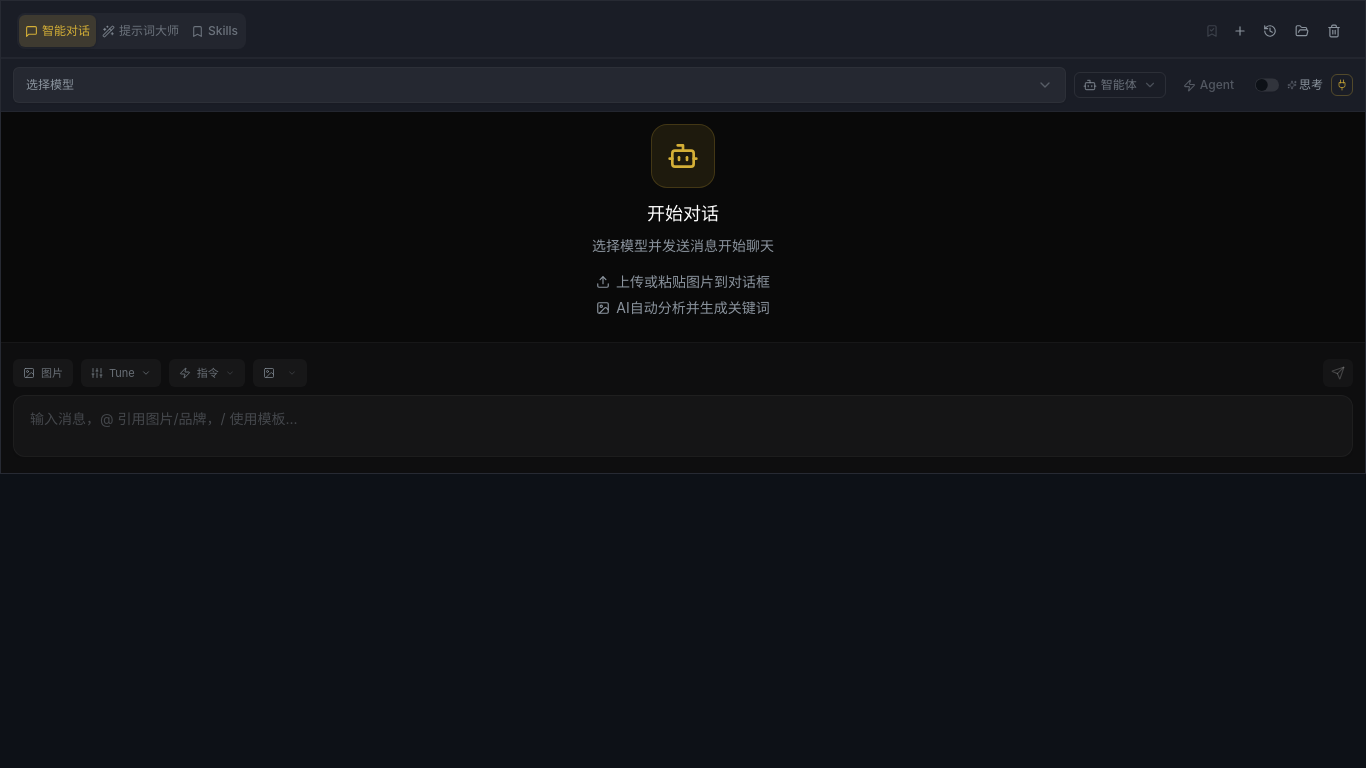
Scenario: Canvas compliance report projection › shows a projection failure inside the real ChatPanel after historical restore
Click the button with aria-label "Skills技能库". click: (214, 31)
box: [185,15,244,47]
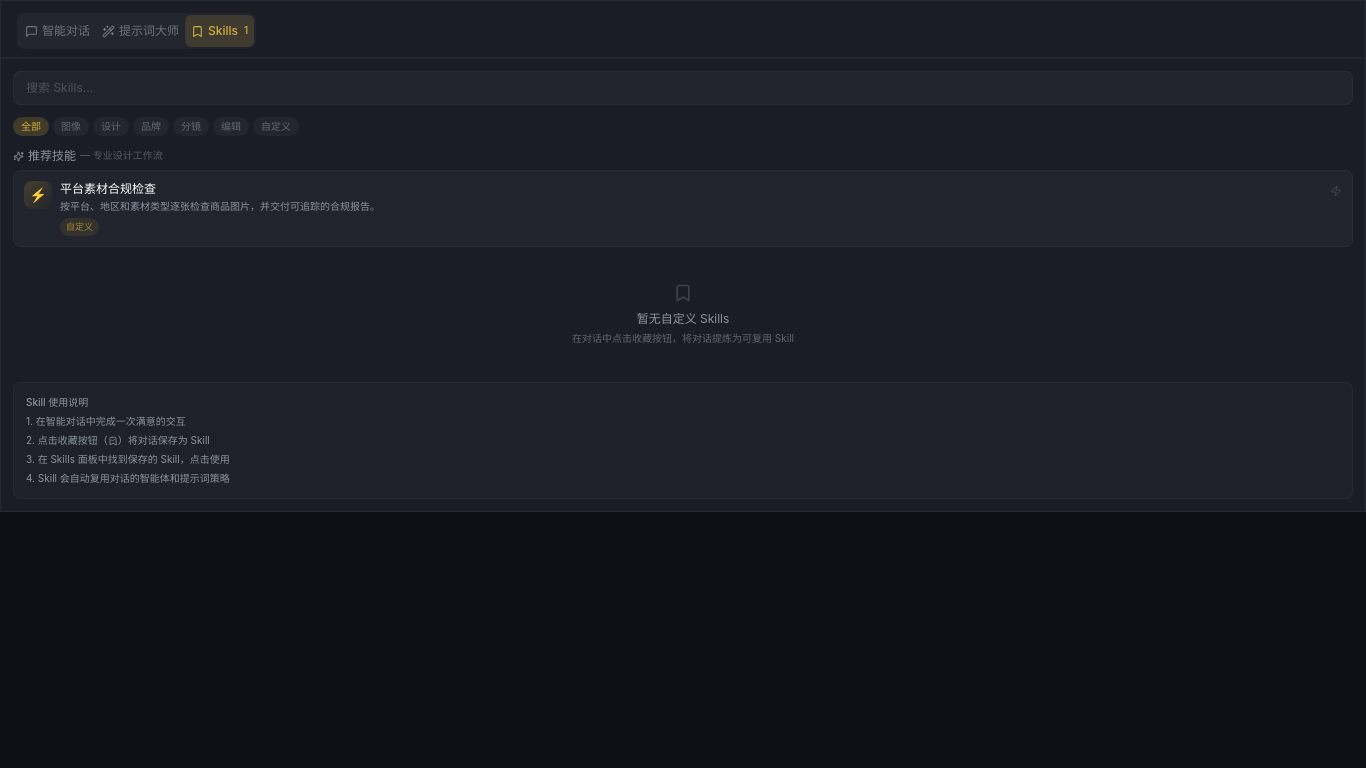
Click the text "平台素材合规检查". click: (108, 188)
box: [60,181,156,196]
(page scrolled)
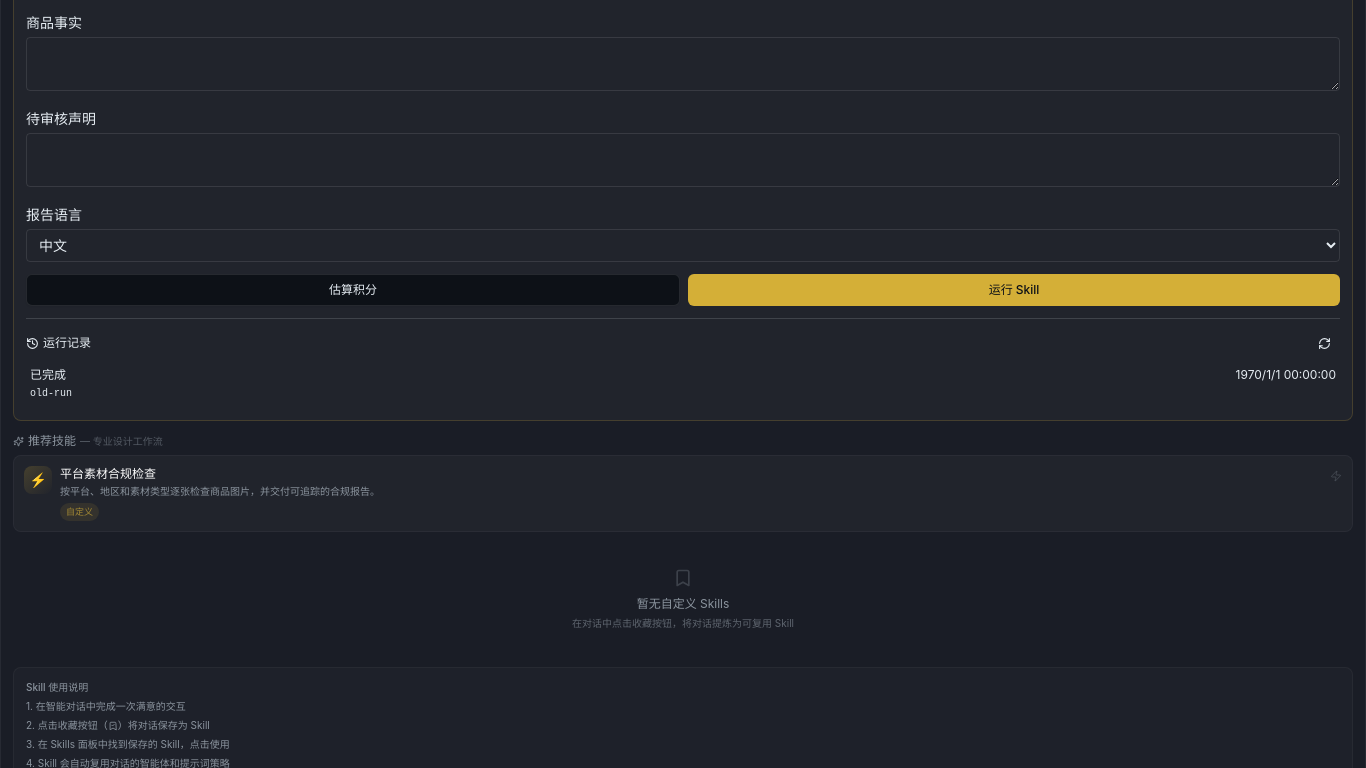
Click the button with aria-label "查看任务 old-run". click: (48, 374)
box: [26,359,1340,408]
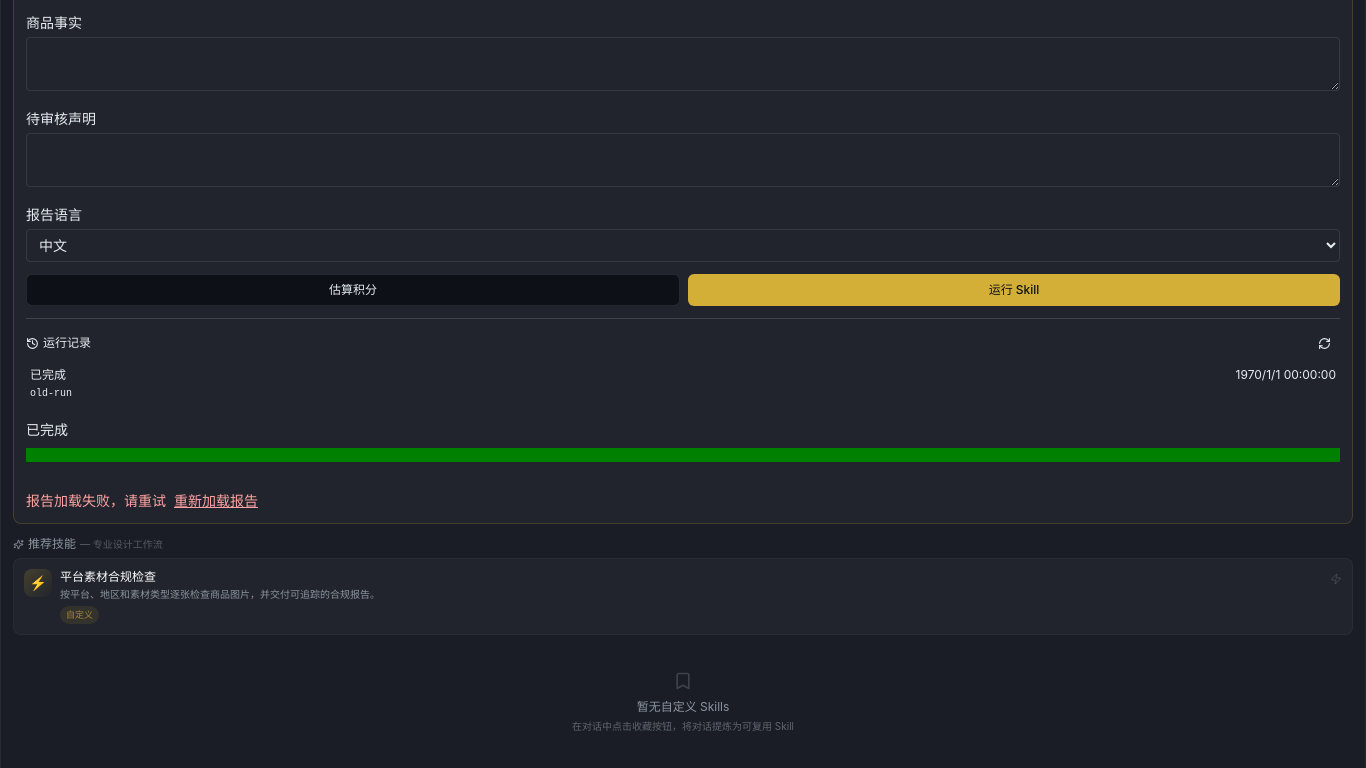
Now the message shows "报告加载失败，请重试", box [26,492,166,509]
